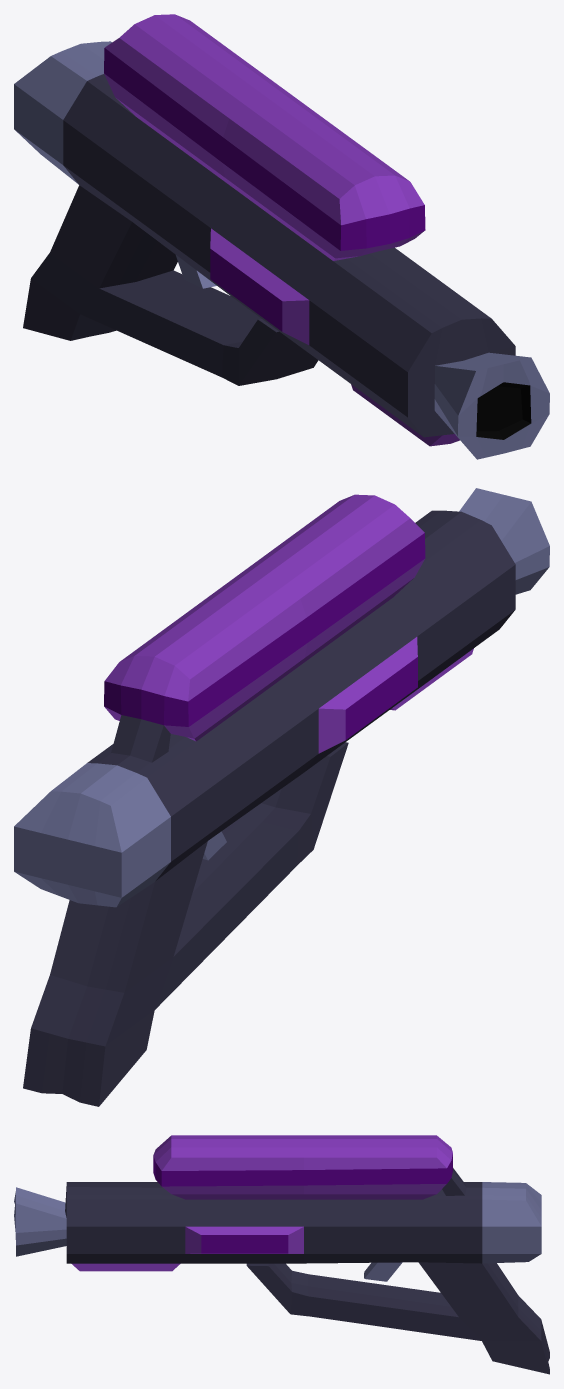
File: pistolaalien.fbx
3 views of the same model, one above another, from view 1: azimuth 30°, elevation 25°; view 2: azimuth 150°, elevation 25°; view 3: azimuth 270°, elevation 25° (orthographic). The views are drawn at different scales.
Parts seen in each view (by area): view 1: Cube; view 2: Cube; view 3: Cube.
Boxes of the visible parts, x1,y1,x2,y2 form: Cube: [14, 14, 549, 459]; Cube: [14, 488, 549, 1106]; Cube: [14, 1135, 549, 1374].
Size of the model in its own units: 39.72 by 104 by 226.
